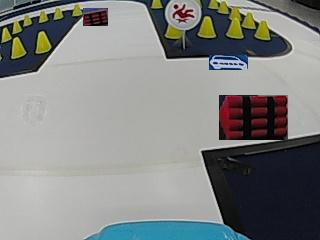cone: (197, 16, 216, 39), (226, 16, 243, 39), (254, 19, 270, 40), (35, 31, 50, 53), (10, 37, 25, 58), (164, 23, 181, 39), (242, 11, 256, 28), (0, 27, 11, 43), (218, 0, 228, 14), (53, 7, 63, 20), (72, 3, 82, 16), (38, 10, 48, 23), (11, 20, 21, 33), (22, 14, 32, 26), (151, 0, 162, 9)
tumble: (169, 1, 198, 26)
